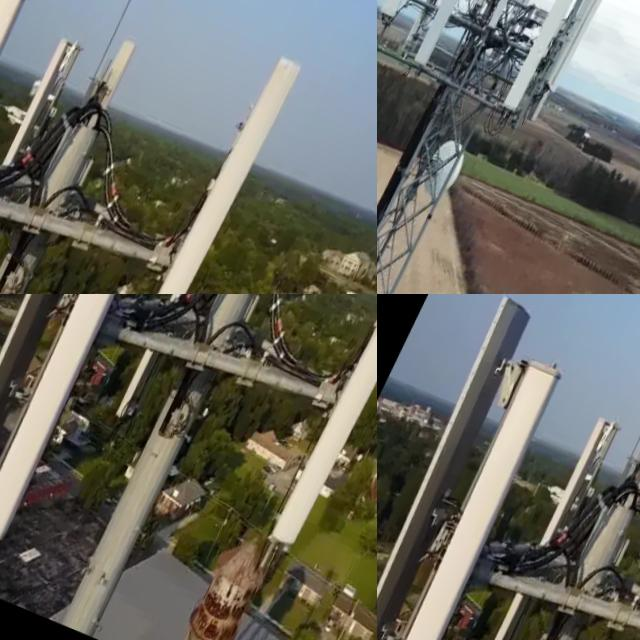GSM Antenna: (102, 35, 317, 294), (377, 294, 536, 640), (405, 340, 566, 640), (479, 399, 635, 640), (0, 294, 122, 557), (279, 338, 377, 559), (0, 31, 81, 287), (118, 294, 253, 429), (54, 25, 149, 201), (0, 294, 85, 455), (507, 0, 619, 115), (549, 0, 621, 96), (418, 0, 521, 67), (214, 294, 314, 359), (486, 0, 548, 44), (503, 0, 574, 37), (628, 410, 640, 501)
Microwave Antenna: (420, 122, 491, 208)
